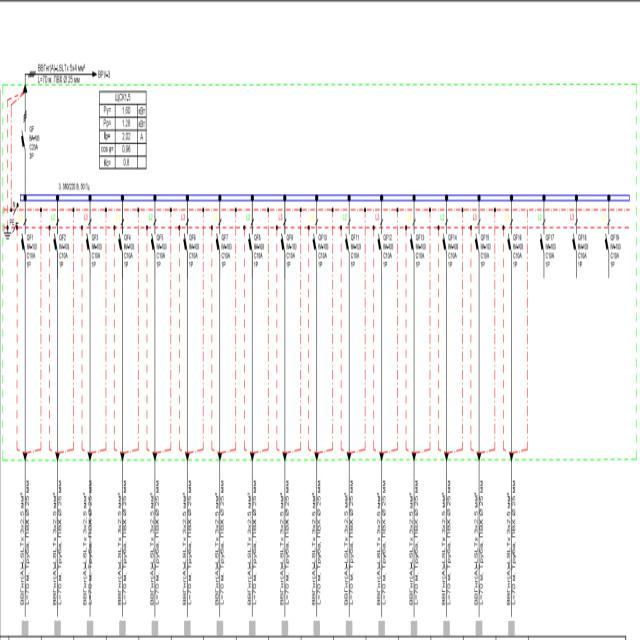-: (28, 133, 42, 162), (350, 240, 362, 270), (512, 240, 524, 270), (26, 242, 38, 271), (286, 241, 298, 270), (124, 242, 136, 271), (382, 241, 394, 270), (448, 241, 460, 270), (253, 242, 265, 271), (578, 242, 590, 271), (544, 242, 556, 271), (189, 243, 201, 272), (90, 241, 102, 270), (317, 240, 329, 268), (156, 242, 168, 270), (221, 242, 233, 270), (480, 242, 492, 270), (415, 242, 427, 270), (610, 242, 622, 270), (59, 240, 70, 270), (115, 90, 132, 104)
QF: (246, 230, 255, 258), (149, 230, 158, 258), (603, 227, 612, 255), (440, 228, 449, 256), (214, 230, 222, 258), (20, 228, 28, 256), (51, 228, 59, 256), (83, 228, 91, 256), (116, 228, 124, 256), (181, 228, 189, 256), (506, 228, 514, 256), (473, 229, 481, 257), (408, 228, 416, 256), (375, 228, 383, 256), (343, 228, 351, 256), (311, 230, 319, 258), (280, 228, 288, 256), (570, 228, 578, 255), (539, 228, 547, 255), (20, 125, 27, 155)
